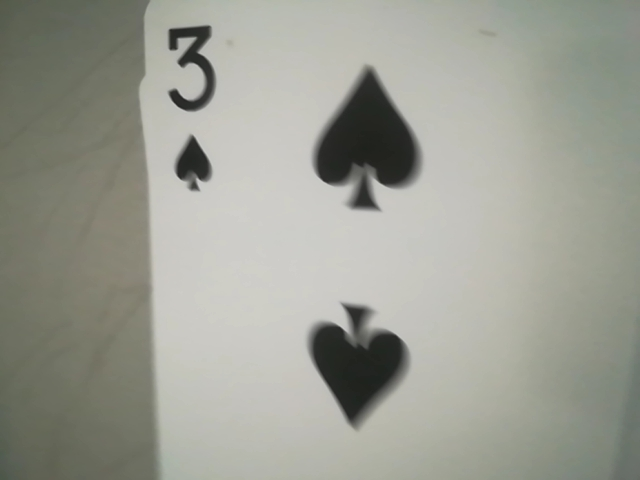ht 3: (144, 14, 243, 208)
